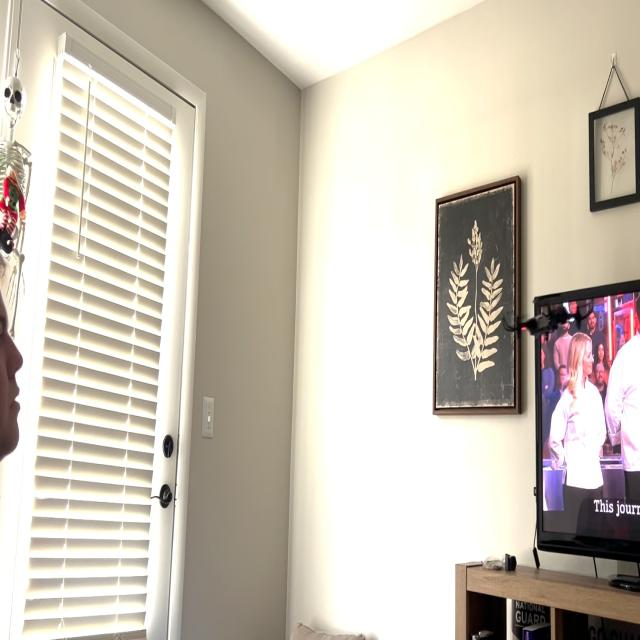drone: (494, 279, 594, 353)
